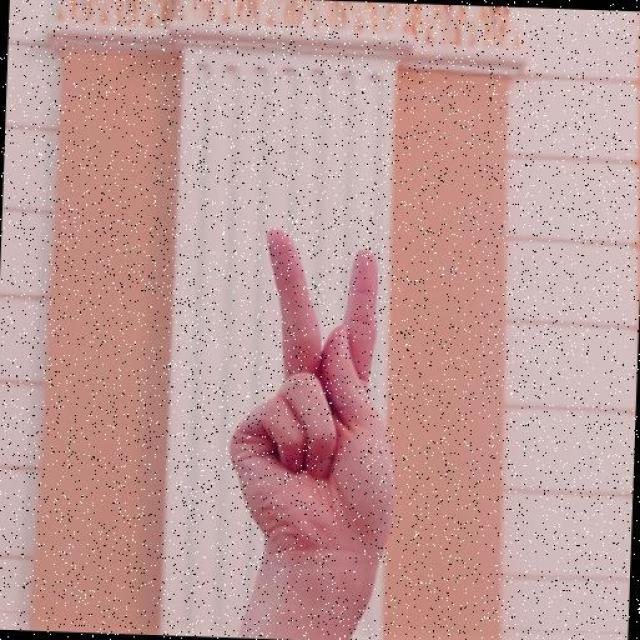K: (224, 222, 407, 564)
